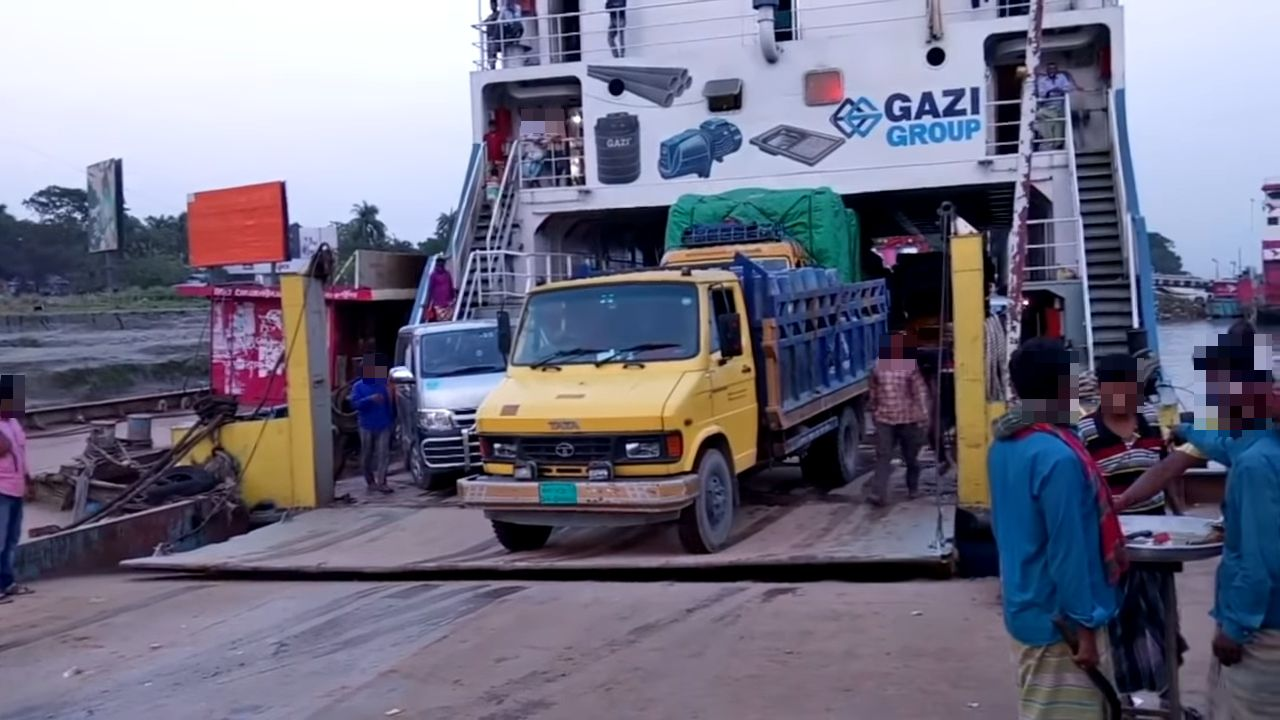car: (394, 316, 554, 493)
truck: (463, 236, 907, 558)
